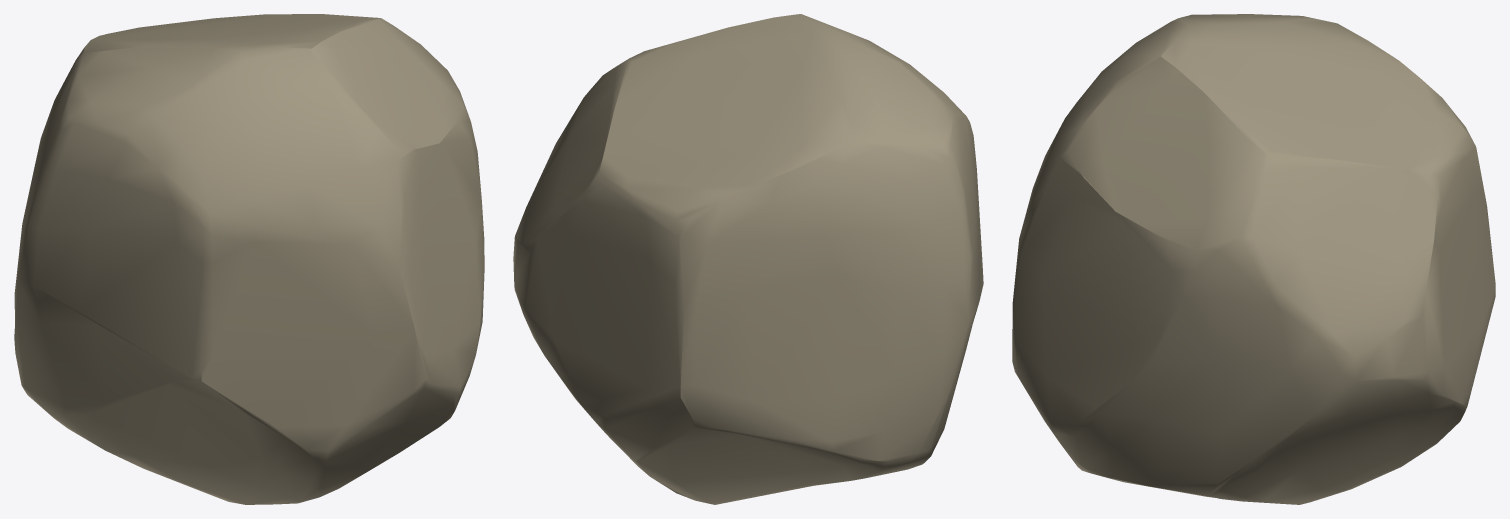
Rendered from quaternius-pirate-kit-environment-rock-5.gltf.
3 renders of one model, left to right at view 1: azimuth 30°, elevation 25°; view 2: azimuth 150°, elevation 25°; view 3: azimuth 270°, elevation 25°, orthographic. The views are drawn at different scales.
Parts seen in each view (by area): view 1: Environment_Rock_5; view 2: Environment_Rock_5; view 3: Environment_Rock_5.
Boxes of the visible parts, left/top/right/bottom form: Environment_Rock_5: left=14, top=14, right=484, bottom=504; Environment_Rock_5: left=513, top=14, right=983, bottom=504; Environment_Rock_5: left=1012, top=14, right=1495, bottom=504.
Bounding box in the file's own units: 0.6053 × 0.6046 × 0.5856.
1 material, 1 textured.
